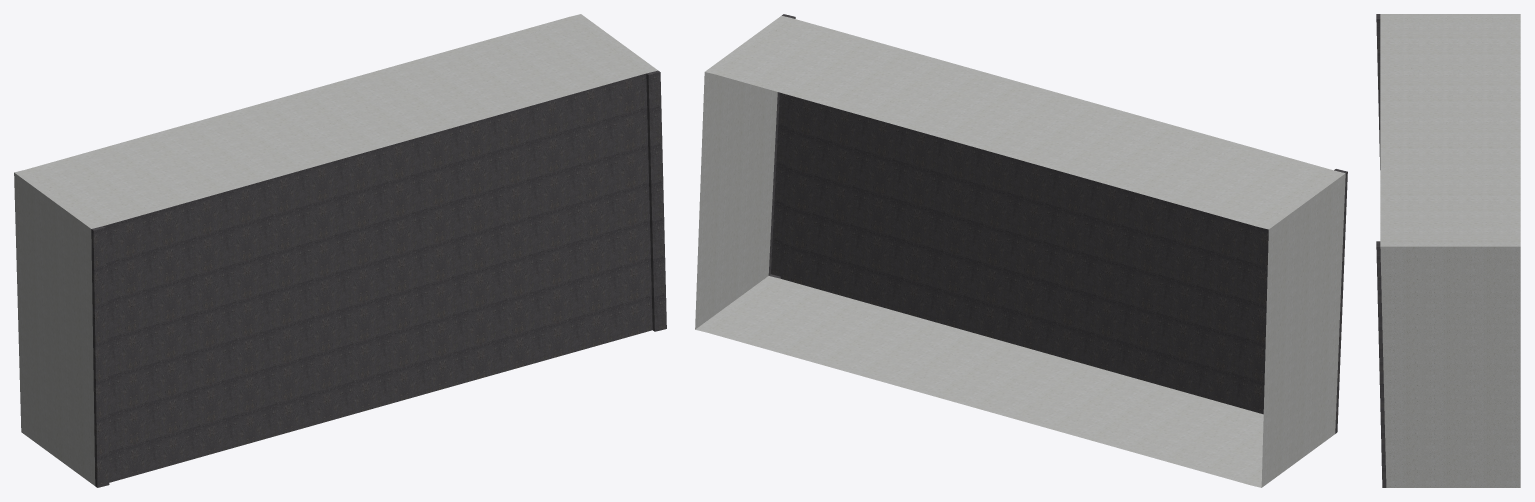
Rendered from Aia_19-origo.obj.
3 views of the same model, side by side, from view 1: azimuth 30°, elevation 25°; view 2: azimuth 150°, elevation 25°; view 3: azimuth 270°, elevation 25° (orthographic). The views are drawn at different scales.
Visible parts, largest first — view 1: Aia_19; view 2: Aia_19; view 3: Aia_19.
Part boxes in pixels (<box>): Aia_19: <box>14,14,666,487</box>; Aia_19: <box>695,14,1347,487</box>; Aia_19: <box>1376,14,1520,487</box>.
Bounding box in the file's own units: 15 × 7 × 3.58.
